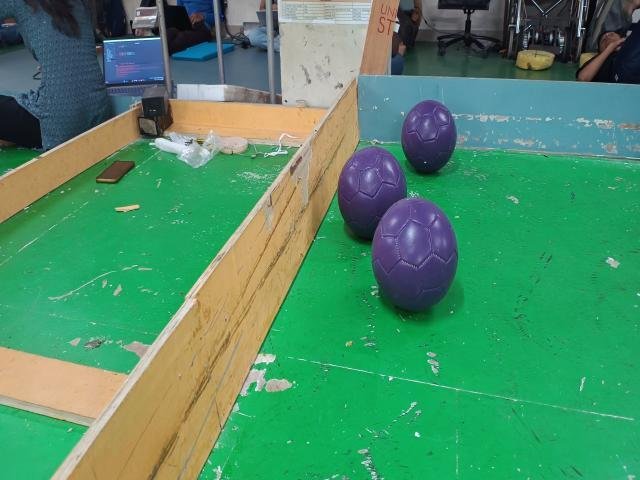jambhalya: (371, 198, 458, 312), (338, 147, 406, 238), (401, 100, 456, 173)
